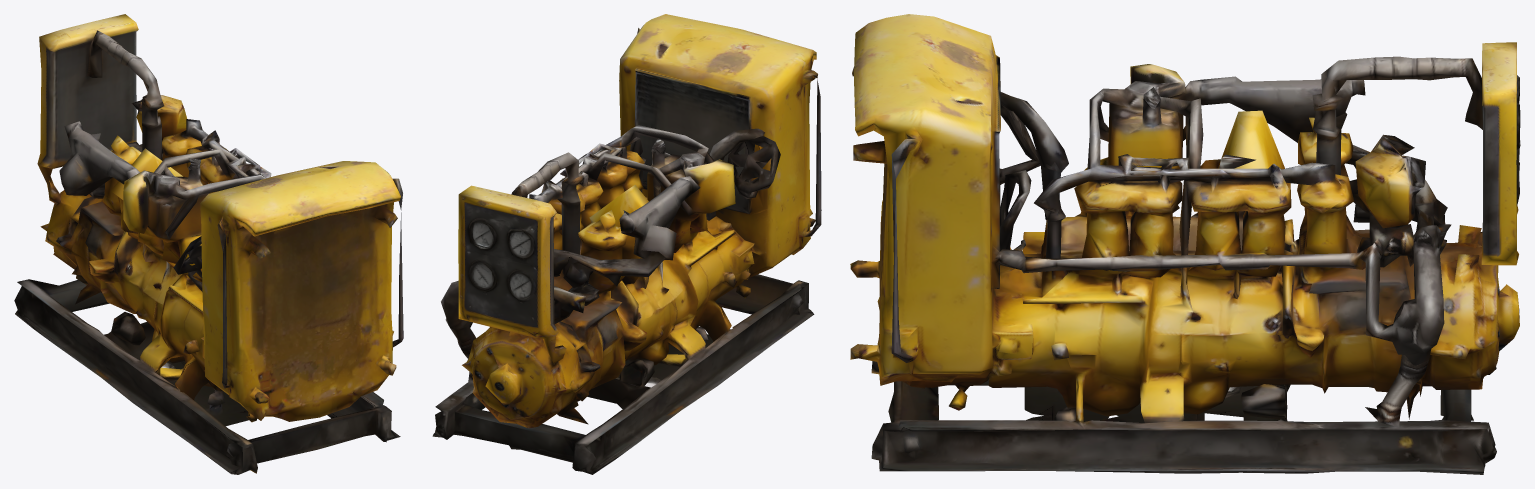
File: generator.glb
The picture shows the model from 3 angles, left to right: view 1: azimuth 30°, elevation 25°; view 2: azimuth 150°, elevation 25°; view 3: azimuth 270°, elevation 25°; orthographic projection. The views are drawn at different scales.
Parts seen in each view (by area): view 1: tripo_node_fe6c0980-437e-4702-8487-b9e7ca51111d; view 2: tripo_node_fe6c0980-437e-4702-8487-b9e7ca51111d; view 3: tripo_node_fe6c0980-437e-4702-8487-b9e7ca51111d.
Boxes of the visible parts, <box> form: tripo_node_fe6c0980-437e-4702-8487-b9e7ca51111d: <box>14,14,403,474</box>; tripo_node_fe6c0980-437e-4702-8487-b9e7ca51111d: <box>432,14,821,474</box>; tripo_node_fe6c0980-437e-4702-8487-b9e7ca51111d: <box>850,14,1520,474</box>.
Bounding box in the file's own units: 0.4259 × 0.5855 × 0.976.
Materials: 1 (1 with a texture image).
